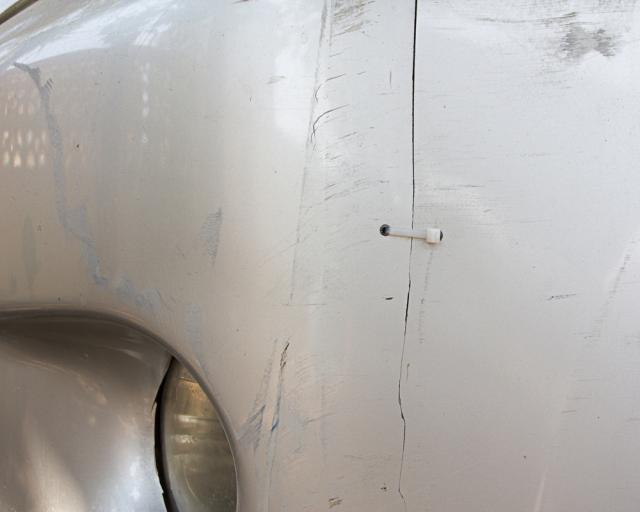crack: (398, 0, 418, 512)
scratch: (236, 0, 402, 512), (483, 0, 640, 99)
